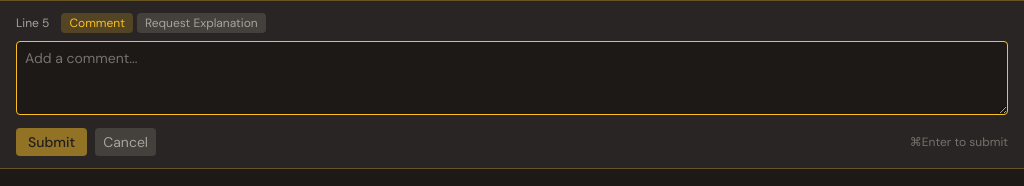
Scenario: InlineCommentForm › renders correct placeholder for ExplanationRequest origin
Click the button "Request Explanation".
click(201, 23)  # box [137,13,266,33]
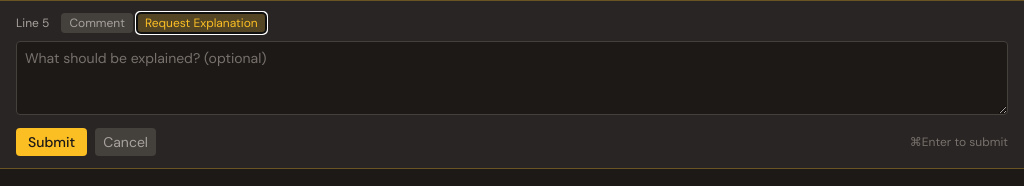
expect the text box with placeholder "What should be explained? (optional)" is shown: met, box [16,41,1008,115]
